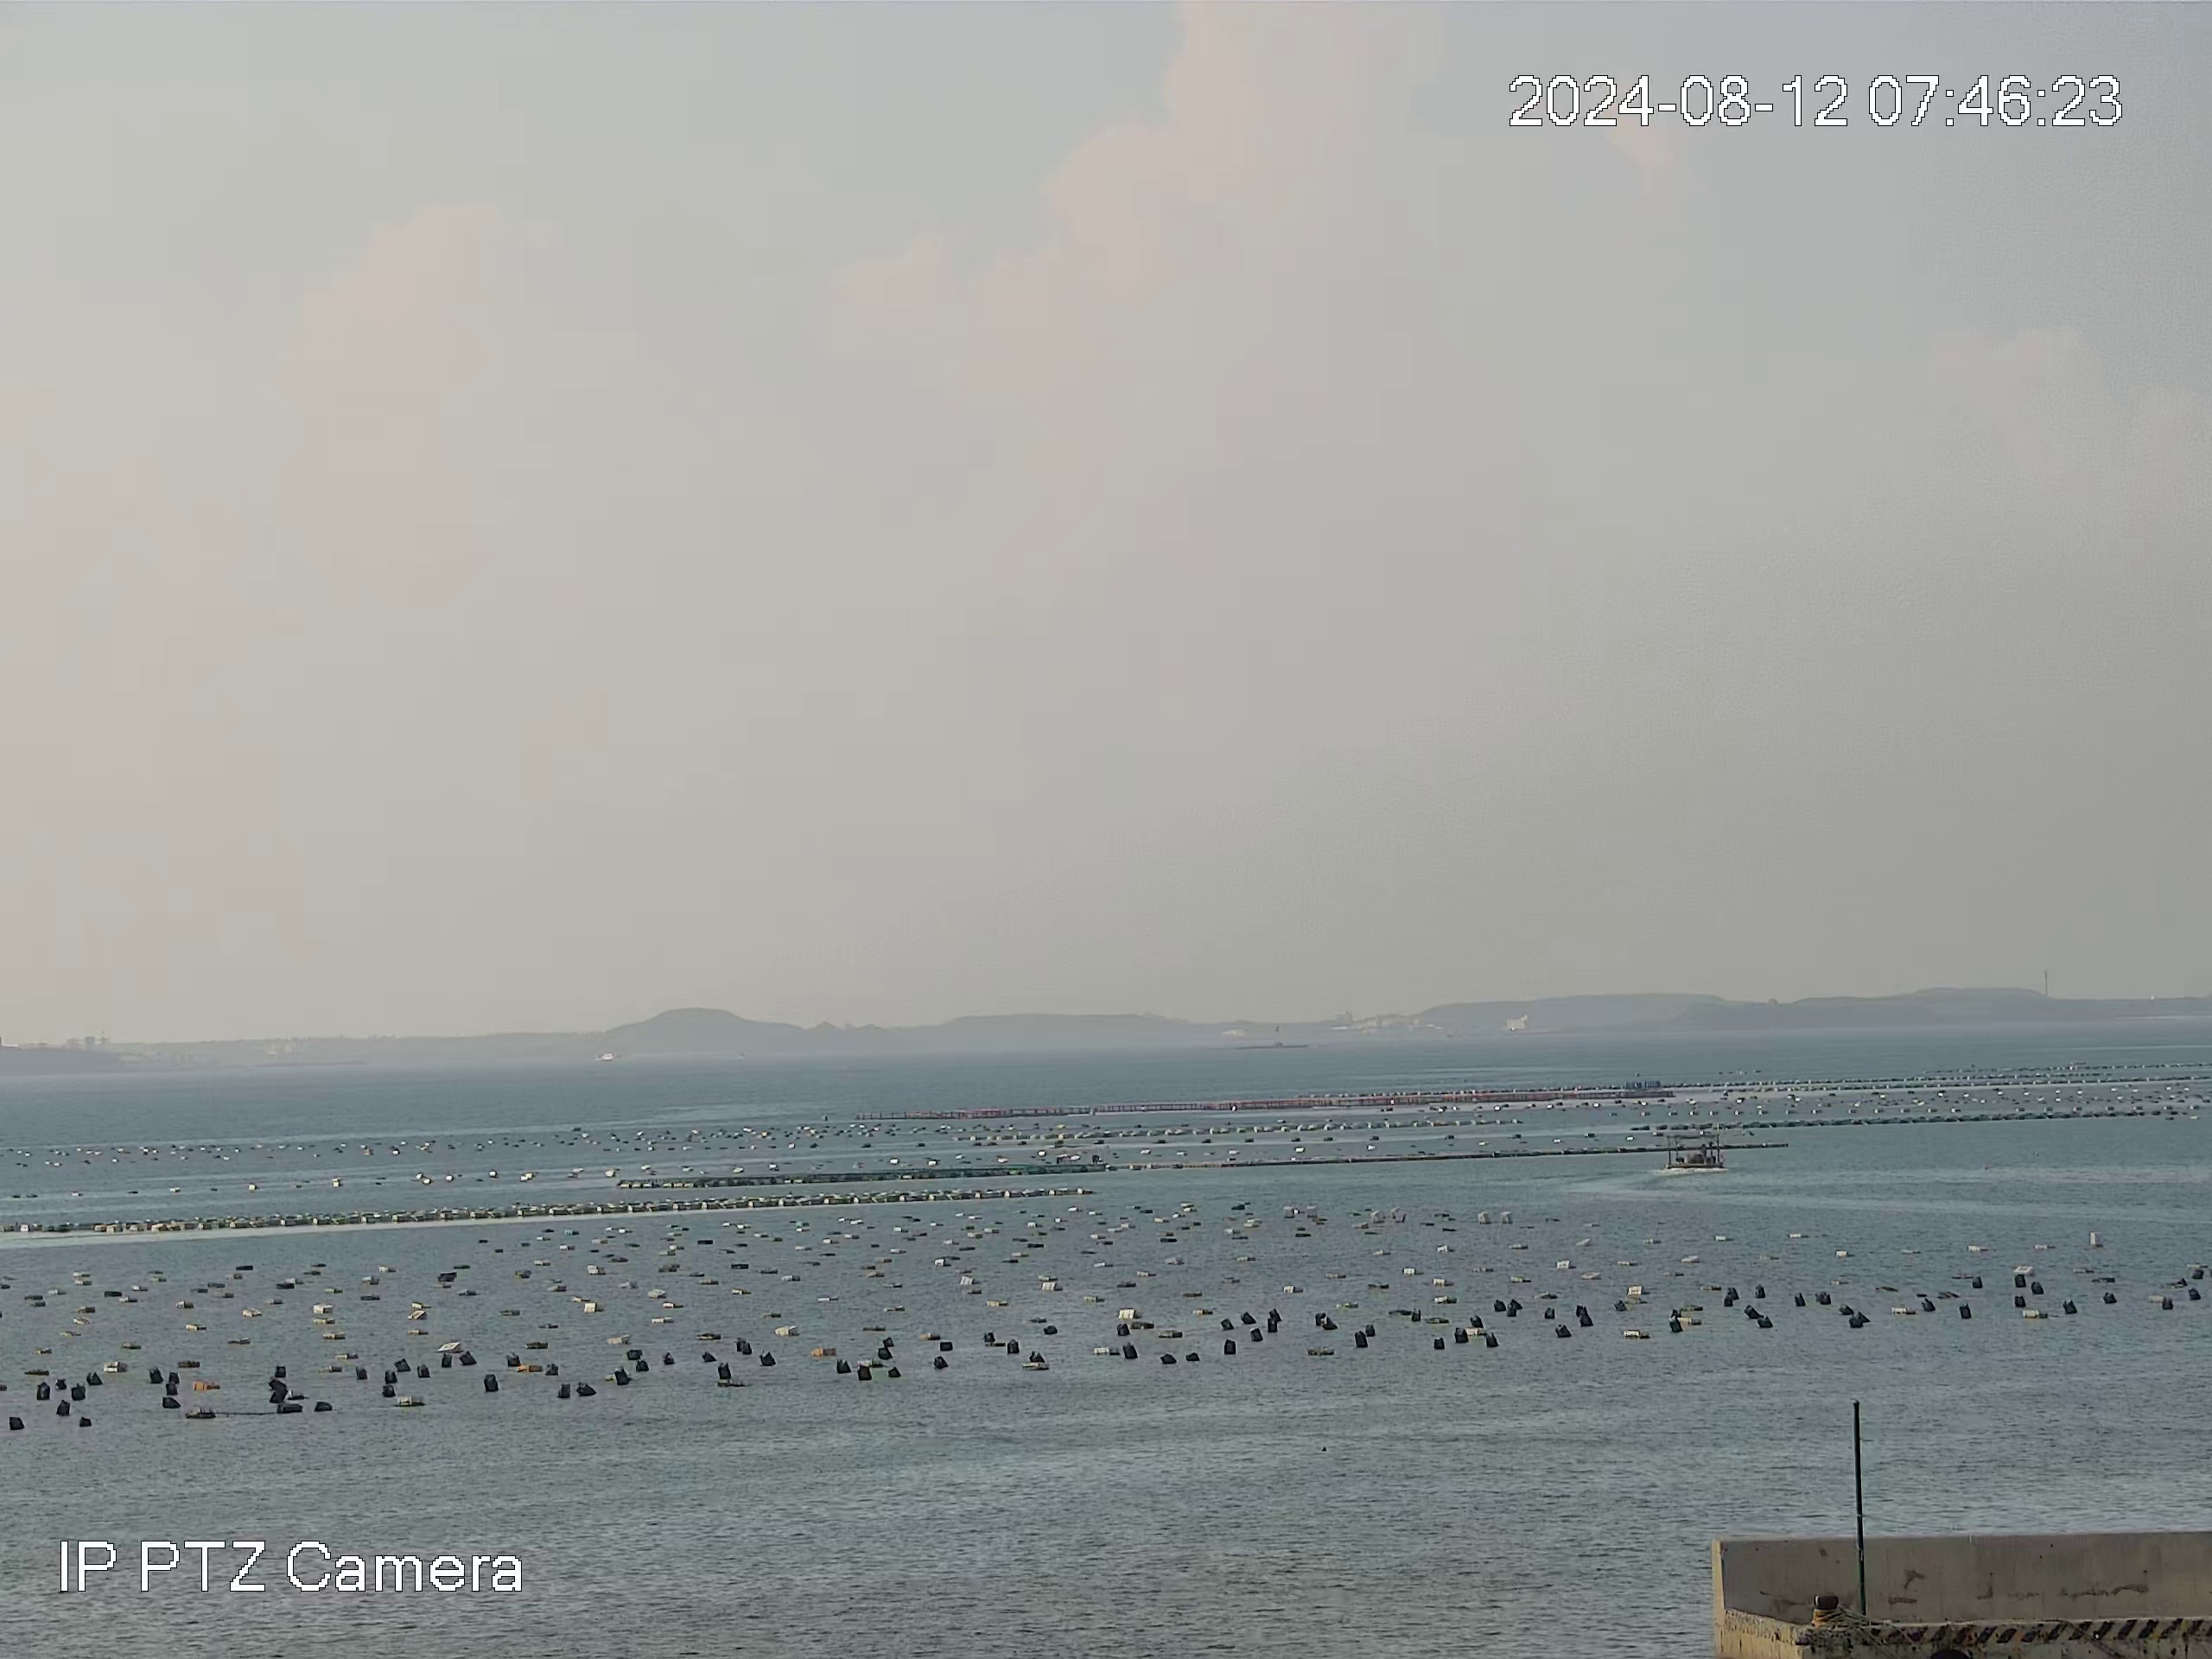boat: (1660, 1129, 1725, 1170)
